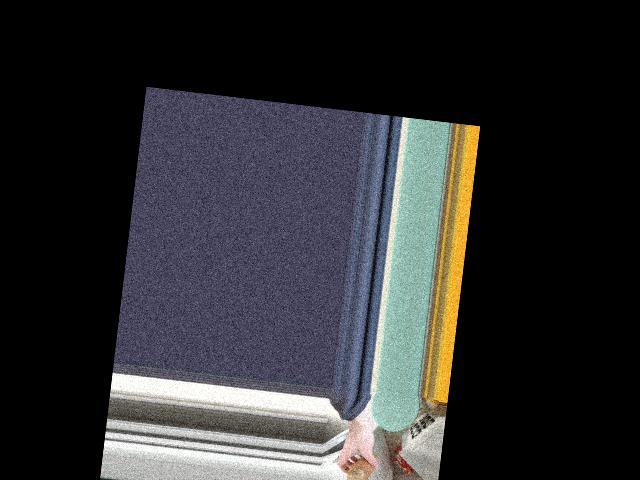sweet_potato: (344, 446, 381, 480)
